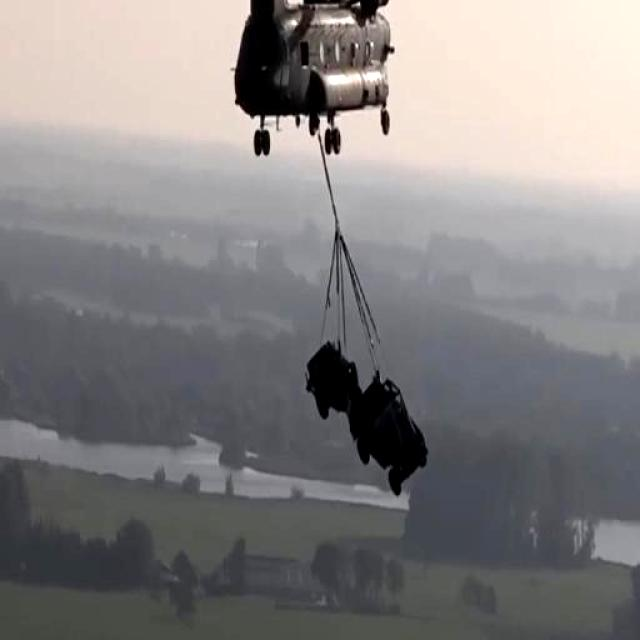drone: (210, 0, 420, 164)
